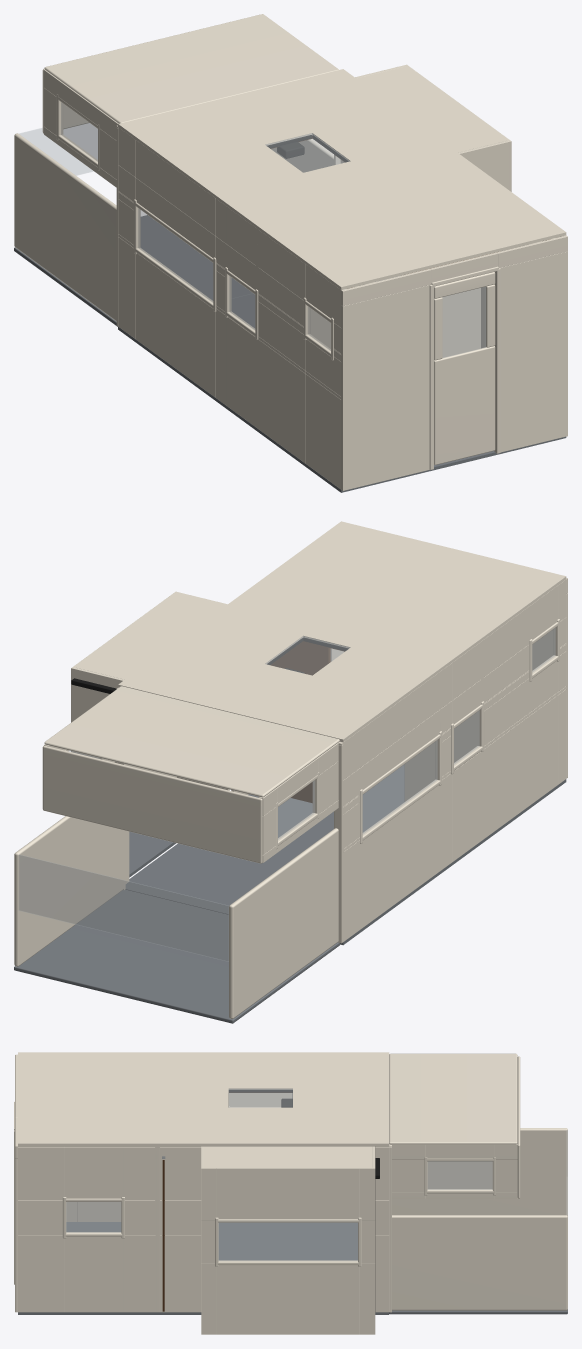
File: shell.glb
3 views of the same model, one above another, from view 1: azimuth 30°, elevation 25°; view 2: azimuth 150°, elevation 25°; view 3: azimuth 270°, elevation 25° (orthographic). The views are drawn at different scales.
Parts seen in each view (by area): view 1: shell_details, ceiling, wall_off, wall_rear, slideout_shell, partition, floor, bulkhead; view 2: shell_details, ceiling, wall_off, floor, slideout_shell, partition, bulkhead, wall_rear; view 3: shell_details, ceiling, wall_kerb, slideout_shell, floor, wall_off, partition, wall_rear, bulkhead.
Part boxes in pixels (x1,y1,x2,y2): shell_details: (14,14,546,469); ceiling: (118,69,566,290); wall_off: (118,127,341,489); wall_rear: (341,235,567,490); slideout_shell: (355,64,511,191); partition: (256,228,480,427); floor: (118,293,566,492); bulkhead: (116,125,340,326); shell_details: (14,619,559,1023); ceiling: (118,521,566,742); wall_off: (343,579,566,941); floor: (125,764,566,945); slideout_shell: (71,591,229,877); partition: (330,640,483,840); bulkhead: (116,687,343,943); wall_rear: (344,578,567,778); shell_details: (14,1053,567,1314); ceiling: (18,1052,389,1146); wall_kerb: (18,1146,389,1312); slideout_shell: (201,1146,375,1334); floor: (18,1222,389,1314); wall_off: (66,1093,292,1221); partition: (155,1146,159,1312); wall_rear: (15,1054,17,1312); bulkhead: (389,1145,391,1312).
Size of the model in its own units: 2.97 by 2.07 by 6.04.
